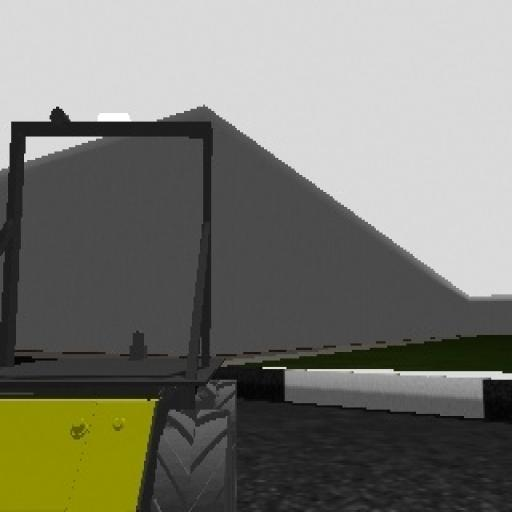huskya200: (1, 56, 243, 512)
